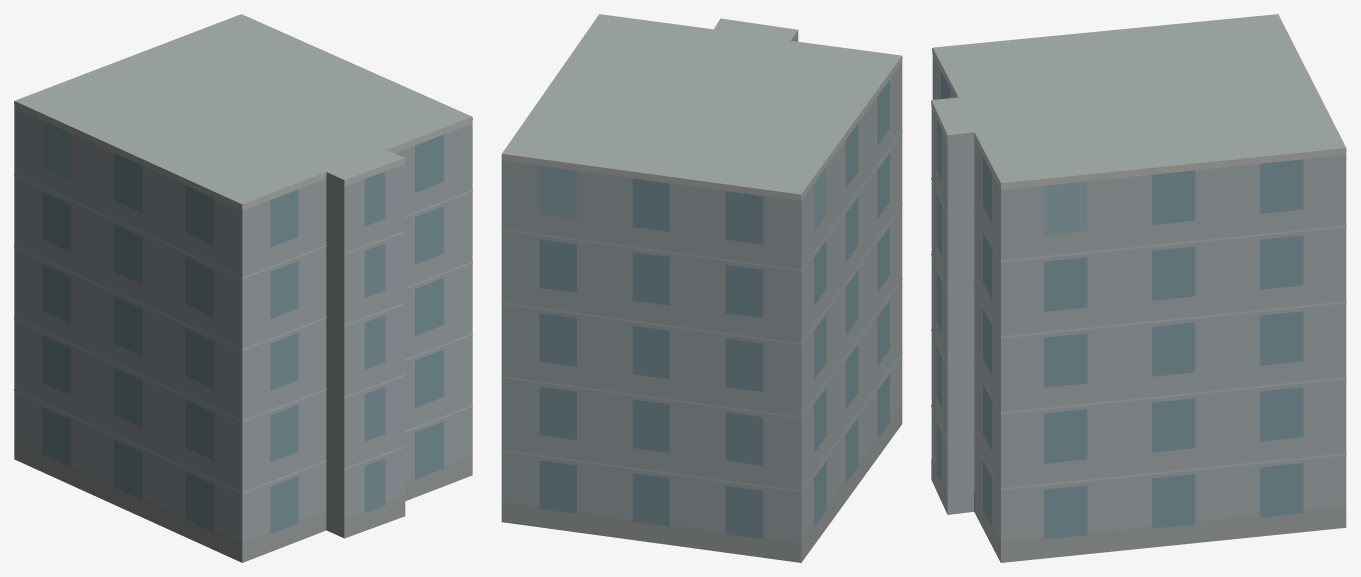
File: survey-upis-32809434.glb
3 views of the same model, side by side, from view 1: azimuth 30°, elevation 25°; view 2: azimuth 150°, elevation 25°; view 3: azimuth 270°, elevation 25° (orthographic). The views are drawn at different scales.
Parts seen in each view (by area): view 1: survey-upis-32809434.tmp; view 2: survey-upis-32809434.tmp; view 3: survey-upis-32809434.tmp.
Boxes of the visible parts, left/top/right/bottom form: survey-upis-32809434.tmp: left=14, top=14, right=472, bottom=562; survey-upis-32809434.tmp: left=501, top=14, right=902, bottom=562; survey-upis-32809434.tmp: left=931, top=14, right=1346, bottom=562.
Size of the model in its own units: 13.03 by 13.6 by 13.5.
